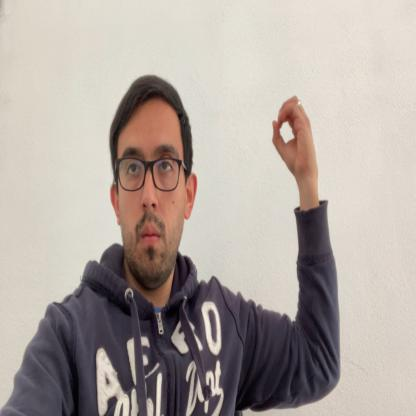O: (272, 95, 318, 178)
